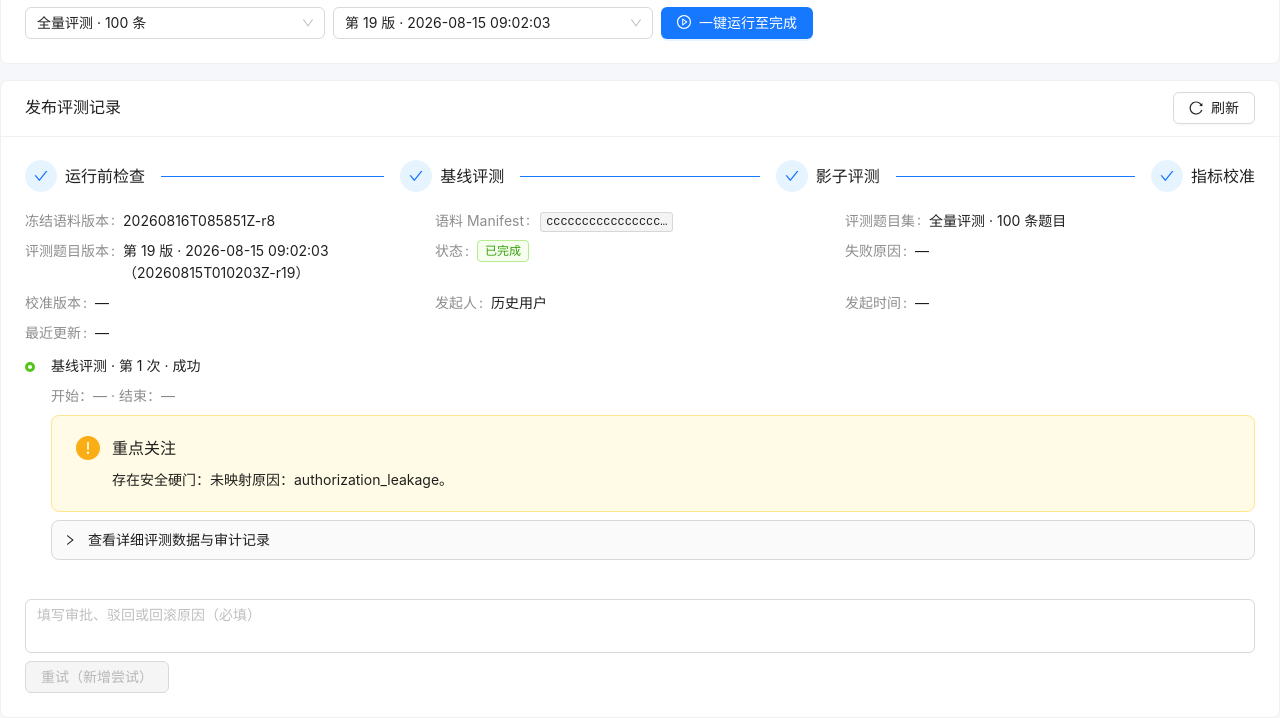
Test: renders category, stage, applicability, root cause, and hard gates separately
(page scrolled)
Check: the text "诊断四层结果" is not shown
Click the button "查看详细评测数据与审计记录" at (167,540), box left=64, top=531, right=270, bottom=548
(page scrolled)
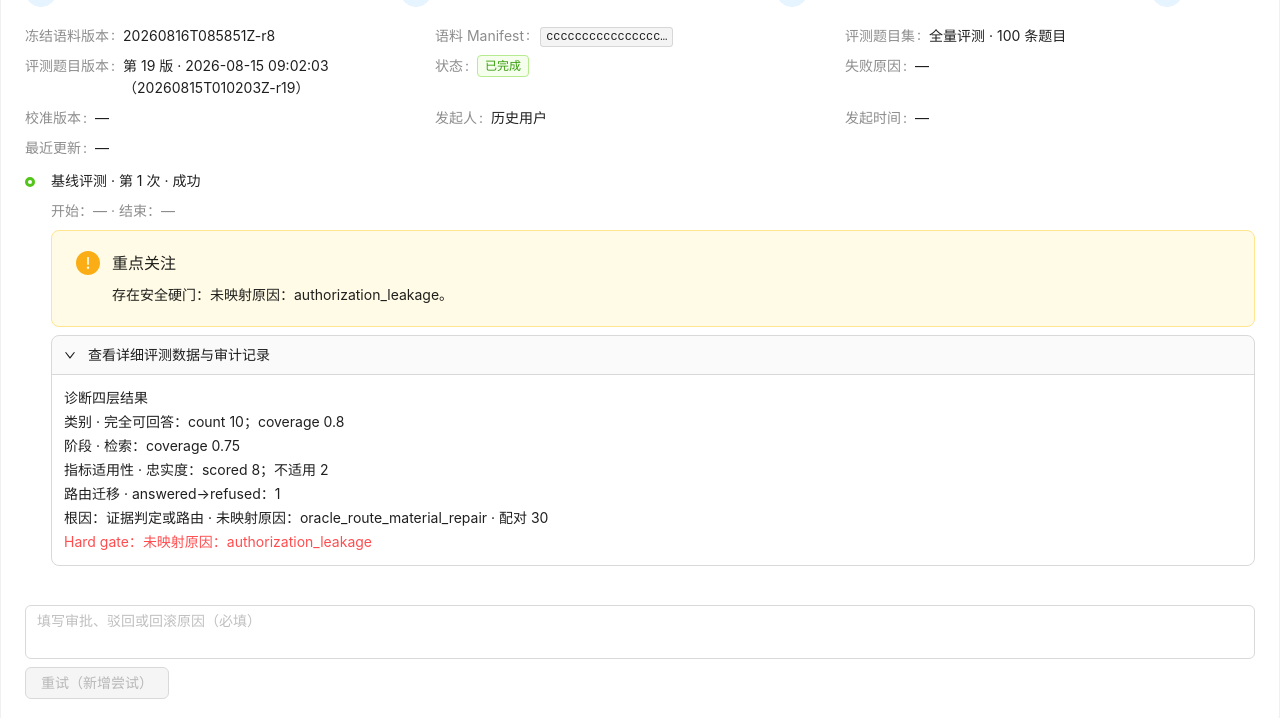
Check: the text "诊断四层结果" is shown, box left=64, top=389, right=148, bottom=406
Check: the text "类别 · 完全可回答：count 10；coverage 0.8" is shown, box left=64, top=413, right=344, bottom=430
Check: the text "阶段 · 检索：coverage 0.75" is shown, box left=64, top=437, right=240, bottom=454
